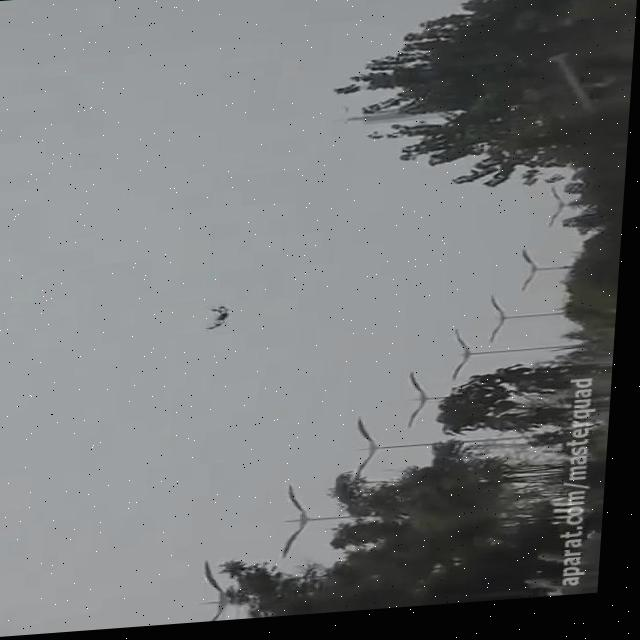drone: (203, 306, 238, 339)
